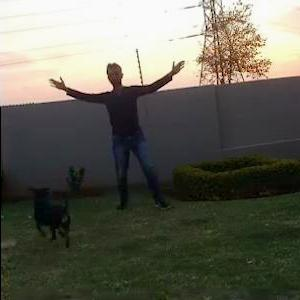takeoff: (62, 54, 205, 216)
